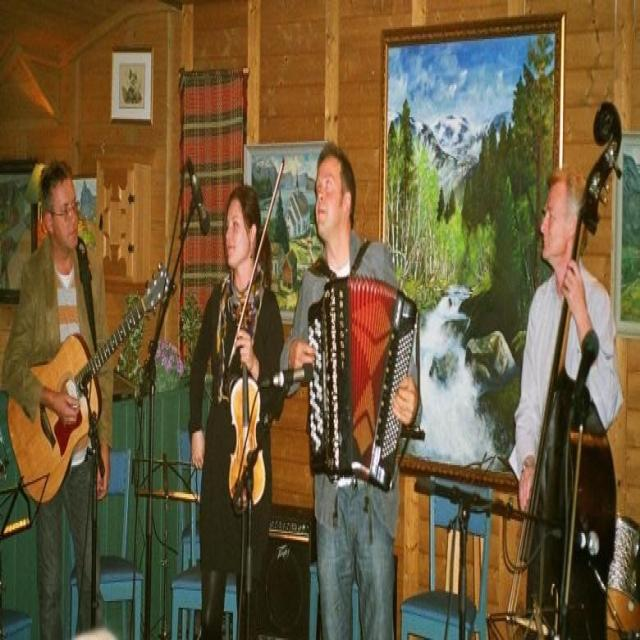guitar: (8, 263, 173, 503)
violin: (228, 294, 266, 508)
